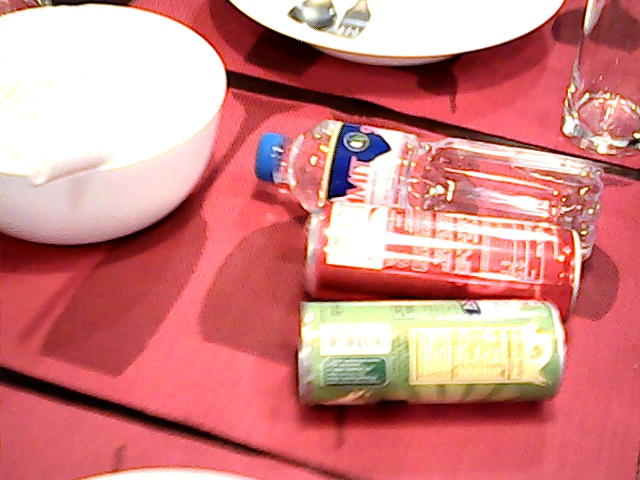Cola: (297, 210, 580, 298)
Pine Juice: (286, 297, 580, 420)
Summit Water: (253, 104, 597, 205)
